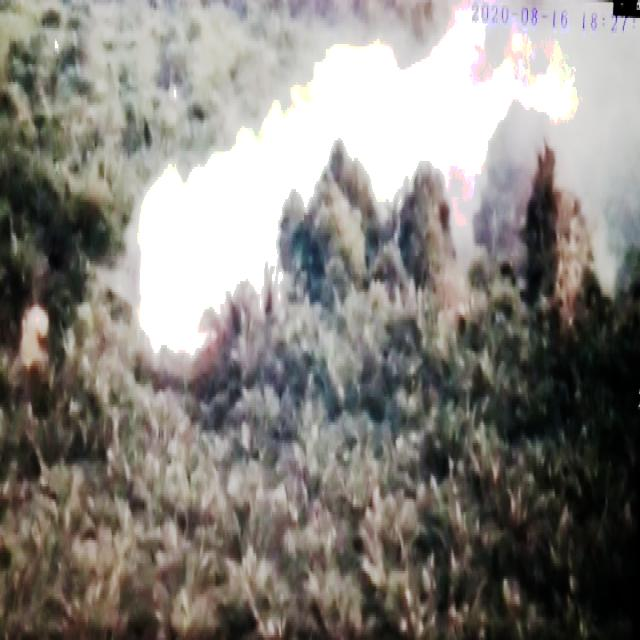asap: (122, 40, 640, 373)
